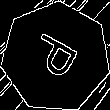P_SE: (25, 29, 86, 85)
